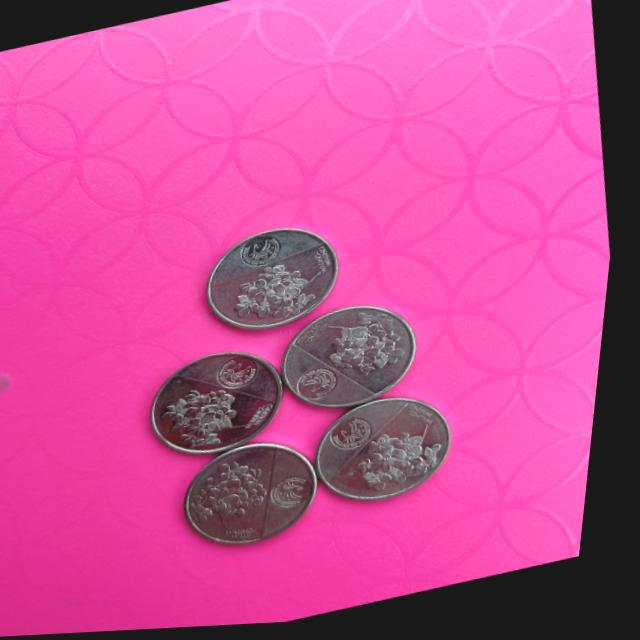1_New_Back: (312, 304, 420, 389), (160, 377, 259, 457), (187, 454, 279, 533), (359, 421, 457, 495), (234, 261, 326, 333)
